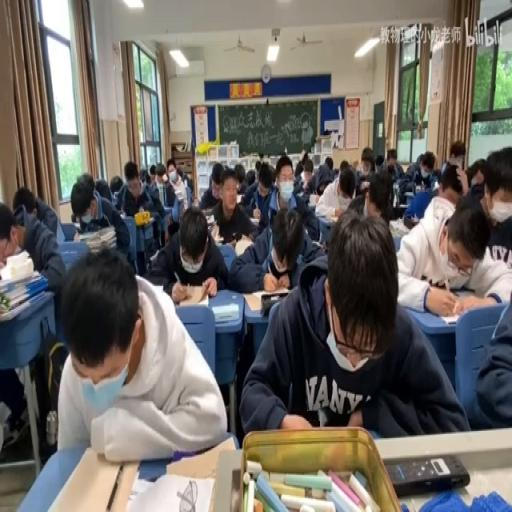calculator: (38, 444, 138, 509), (126, 469, 215, 512), (164, 435, 234, 479), (0, 288, 46, 321), (0, 267, 39, 296), (241, 289, 285, 310), (438, 304, 483, 324), (174, 287, 210, 306), (212, 302, 238, 322), (234, 234, 254, 258), (451, 284, 477, 298), (390, 218, 410, 236), (142, 279, 165, 294), (208, 222, 222, 243), (322, 209, 342, 221), (204, 212, 214, 226), (149, 248, 159, 260), (249, 214, 260, 224), (306, 201, 318, 209), (414, 184, 422, 194), (405, 190, 414, 198), (236, 193, 243, 202), (398, 204, 408, 210)
paper: (240, 208, 462, 436), (56, 246, 226, 461), (1, 190, 67, 454), (466, 280, 511, 430), (70, 174, 132, 270), (121, 159, 166, 255), (210, 166, 258, 249), (474, 152, 510, 262), (286, 155, 326, 235), (348, 168, 398, 225), (398, 148, 438, 202), (158, 158, 186, 222), (436, 140, 467, 194), (0, 202, 24, 270), (12, 185, 38, 217), (384, 147, 403, 179), (466, 156, 487, 184), (93, 176, 112, 205), (338, 175, 354, 200), (233, 162, 246, 189), (361, 145, 374, 171), (109, 175, 122, 199), (180, 168, 192, 192), (138, 166, 149, 185), (154, 168, 166, 185), (302, 165, 312, 185), (374, 154, 385, 172), (148, 164, 157, 184), (245, 168, 255, 185), (415, 151, 424, 168), (294, 159, 302, 178), (299, 151, 309, 166), (430, 154, 438, 172), (339, 158, 349, 171), (315, 182, 325, 195), (324, 155, 333, 169), (254, 158, 262, 173), (405, 163, 414, 175), (176, 165, 182, 181)
person: (384, 452, 470, 494)
